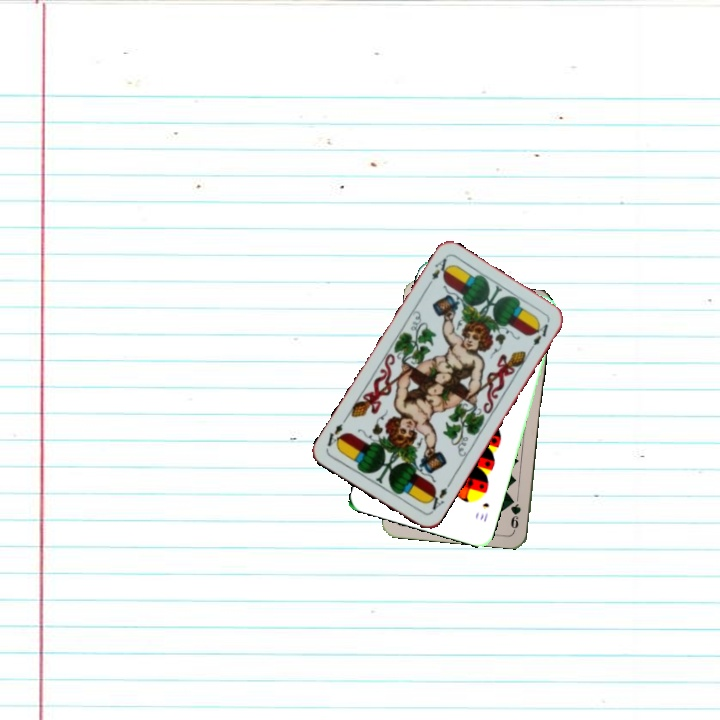EA: (423, 254, 452, 290), (424, 484, 450, 515)
G9: (506, 492, 523, 533)
S10: (476, 498, 492, 524)
